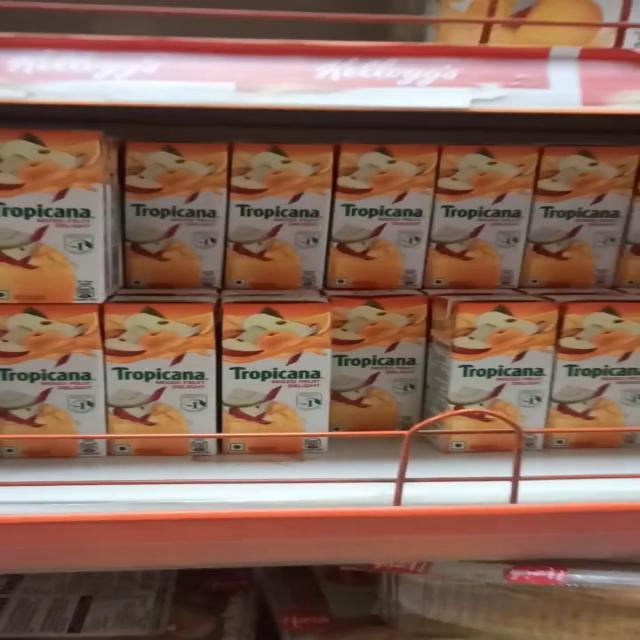Tropicana: (223, 302, 339, 456), (448, 296, 562, 452), (105, 298, 213, 462), (224, 134, 340, 286), (340, 139, 442, 298), (0, 305, 102, 461), (125, 138, 225, 285), (438, 140, 536, 287), (542, 142, 632, 284)
